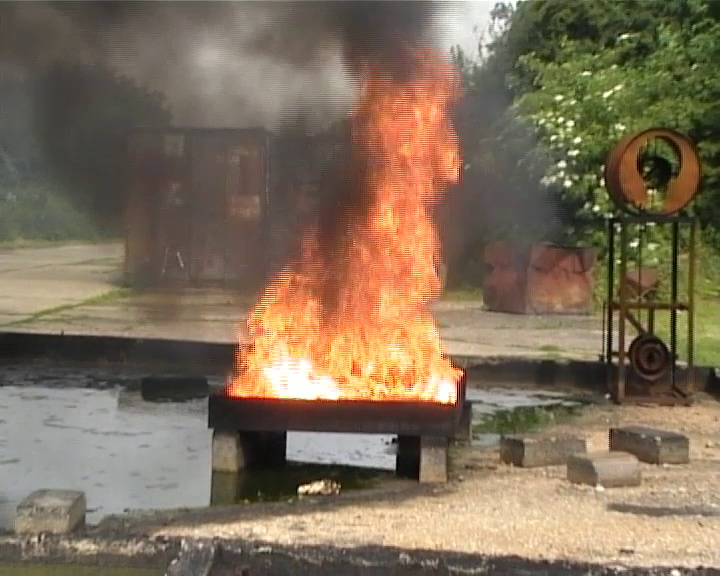fire: (234, 78, 454, 399)
